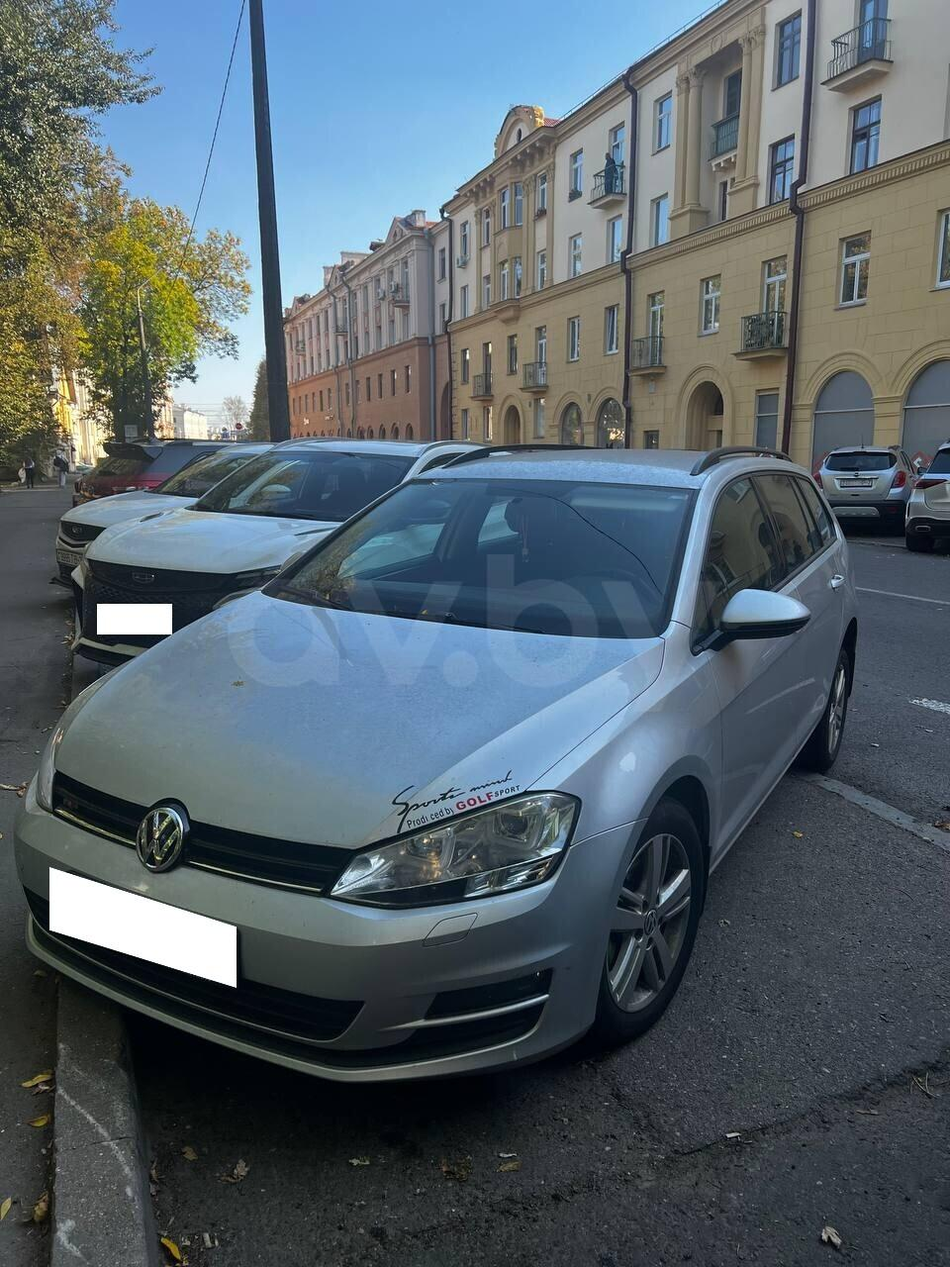Golf_2012-2017: (7, 439, 869, 1065)
